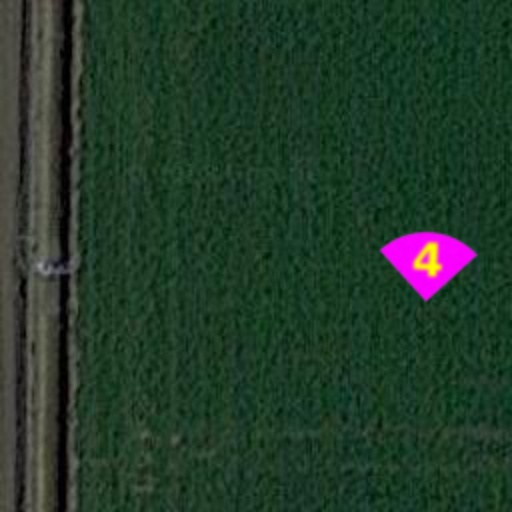quarter_circle: (378, 210, 478, 310)
